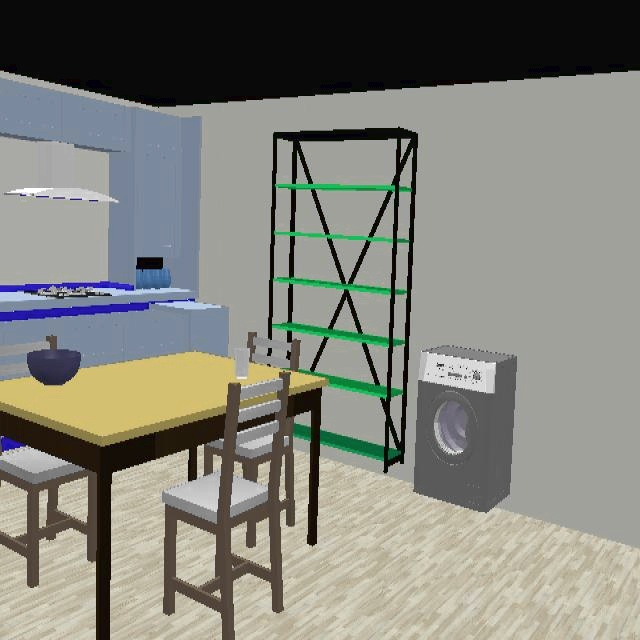chair: (163, 379, 297, 640), (0, 445, 98, 589), (248, 333, 301, 372)
countertop: (0, 289, 229, 357)
shelf: (268, 127, 418, 475)
stove: (0, 281, 134, 296)
table: (0, 352, 237, 640)
